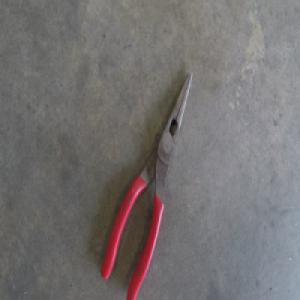Pliers: (101, 72, 192, 294)
